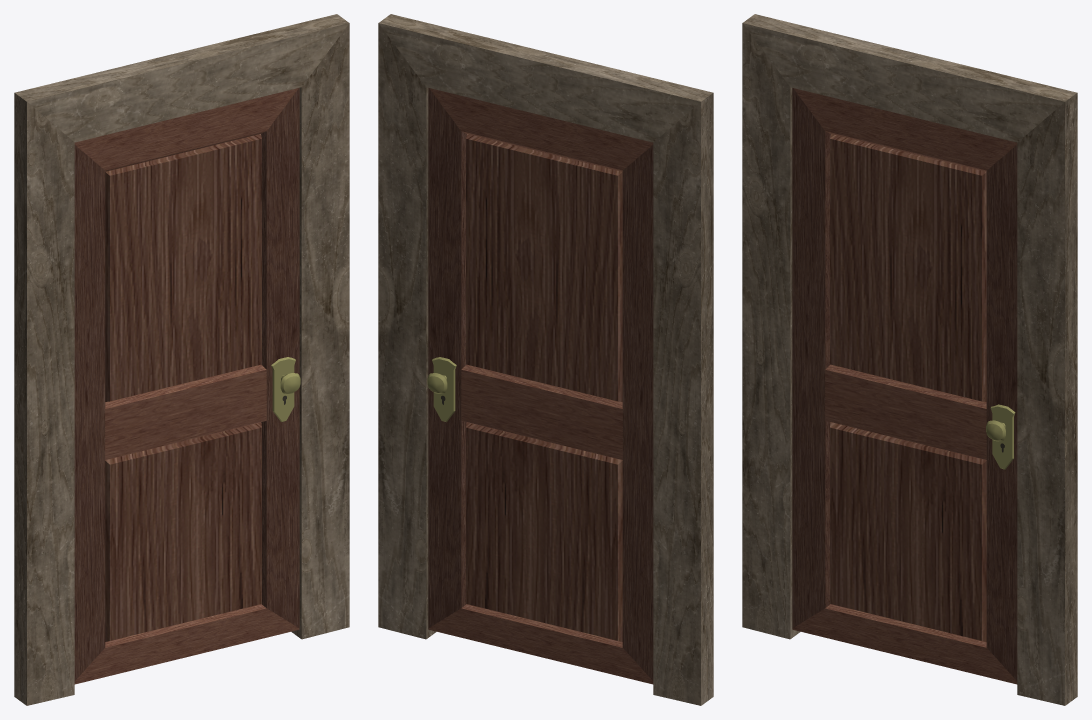
The model's file is Misc_Door&Frame.fbx.
The picture shows the model from 3 angles, left to right: view 1: azimuth 30°, elevation 25°; view 2: azimuth 150°, elevation 25°; view 3: azimuth 330°, elevation 25°; orthographic projection.
Parts seen in each view (by area): view 1: Door, Frame; view 2: Door, Frame; view 3: Door, Frame.
Part boxes in pixels (x1,y1,x2,y2): Door: (74, 88, 300, 684); Frame: (14, 14, 349, 705); Door: (427, 88, 653, 684); Frame: (378, 14, 713, 705); Door: (792, 88, 1017, 684); Frame: (742, 14, 1077, 705).
Size of the model in its own units: 95.85 by 172 by 14.55.
